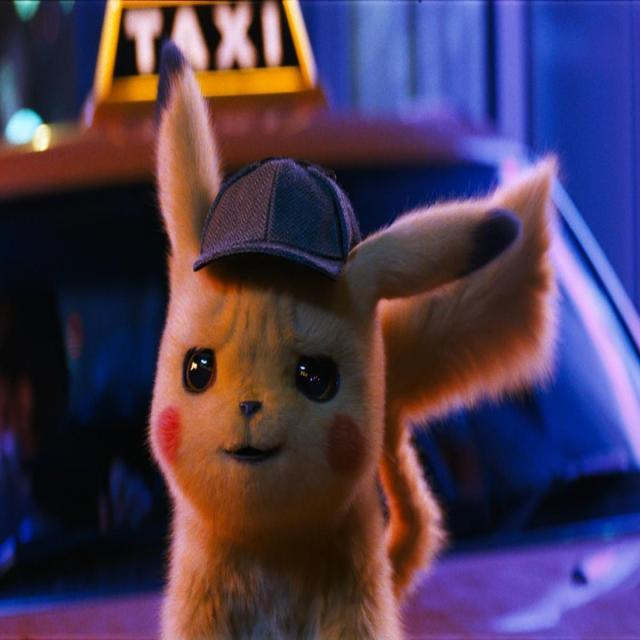pikachu: (150, 43, 556, 638)
